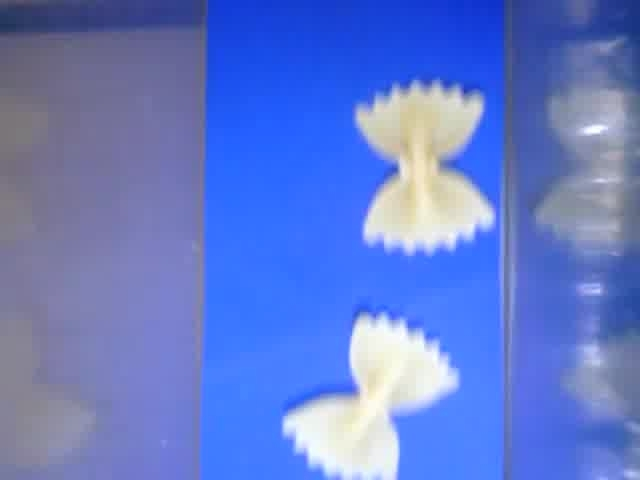farfalle: (281, 310, 463, 480), (353, 79, 497, 257)
